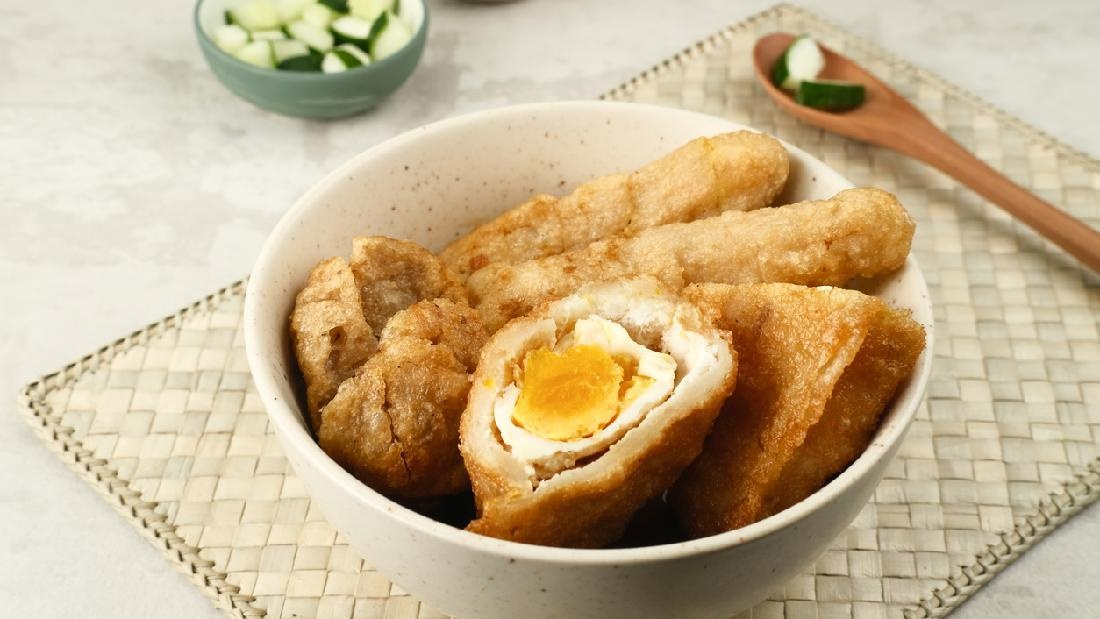pempek: (224, 68, 948, 548)
